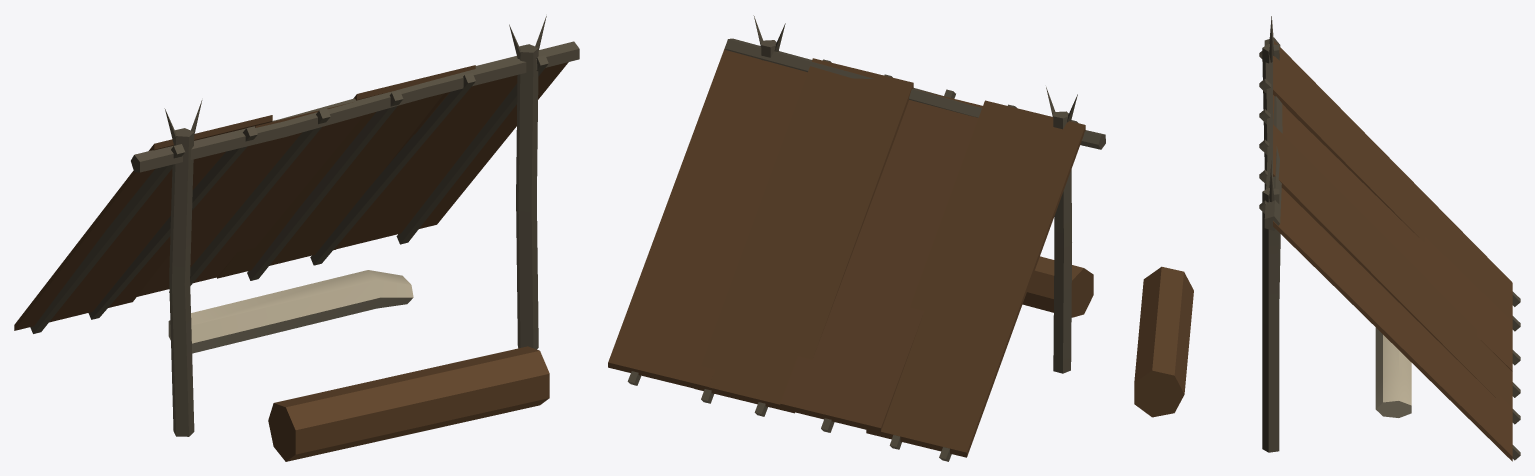
File: LeanTo.fbx
3 renders of one model, left to right at view 1: azimuth 30°, elevation 25°; view 2: azimuth 150°, elevation 25°; view 3: azimuth 270°, elevation 25°, orthographic. The views are drawn at different scales.
Parts seen in each view (by area): view 1: LeanTo; view 2: LeanTo; view 3: LeanTo.
Boxes of the visible parts, box(x1,y1,x2,y2) form: LeanTo: box(14, 16, 579, 461); LeanTo: box(608, 15, 1105, 461); LeanTo: box(1134, 16, 1520, 461).
Size of the model in its own units: 2.31 by 1.66 by 2.04.
